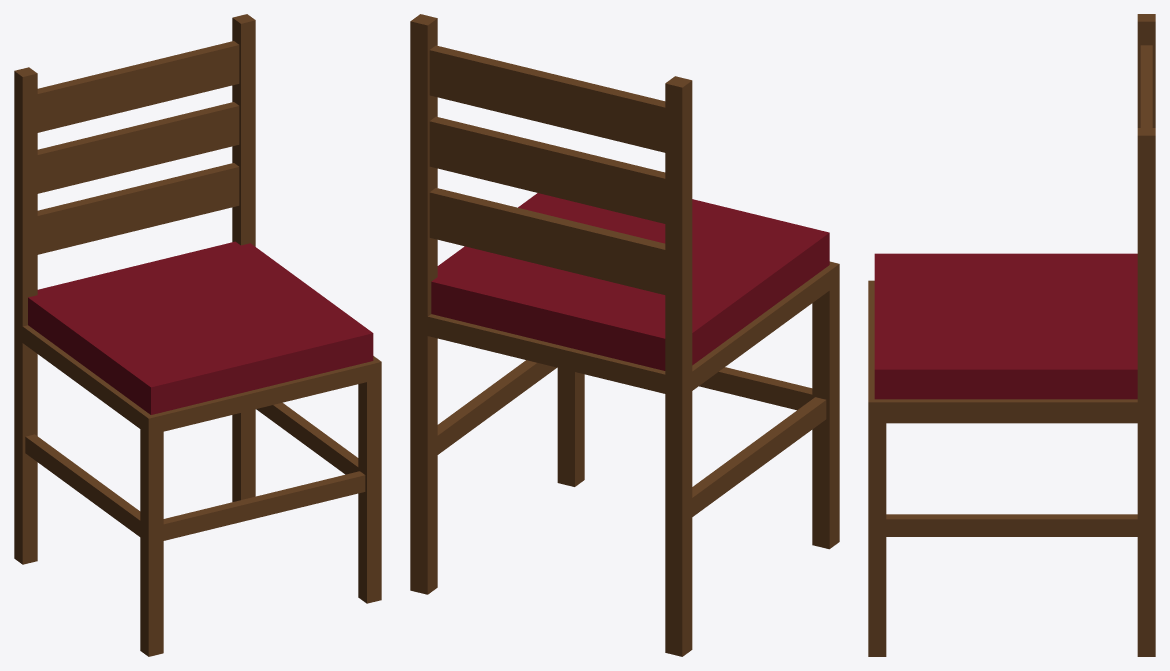
Rendered from silla-madera.glb.
3 views of the same model, side by side, from view 1: azimuth 30°, elevation 25°; view 2: azimuth 150°, elevation 25°; view 3: azimuth 270°, elevation 25° (orthographic). The views are drawn at different scales.
Parts seen in each view (by area): view 1: silla-madera; view 2: silla-madera; view 3: silla-madera.
Part boxes in pixels (bbox=[...]): silla-madera: bbox=[14, 14, 381, 656]; silla-madera: bbox=[410, 14, 839, 656]; silla-madera: bbox=[868, 14, 1155, 656].
Size of the model in its own units: 0.44 by 0.88 by 0.44.
